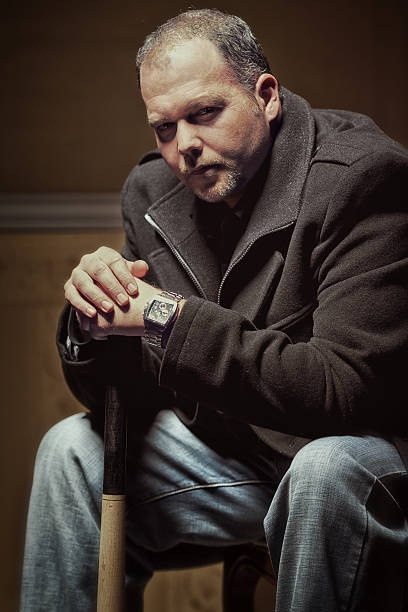bita: (90, 292, 155, 612)
